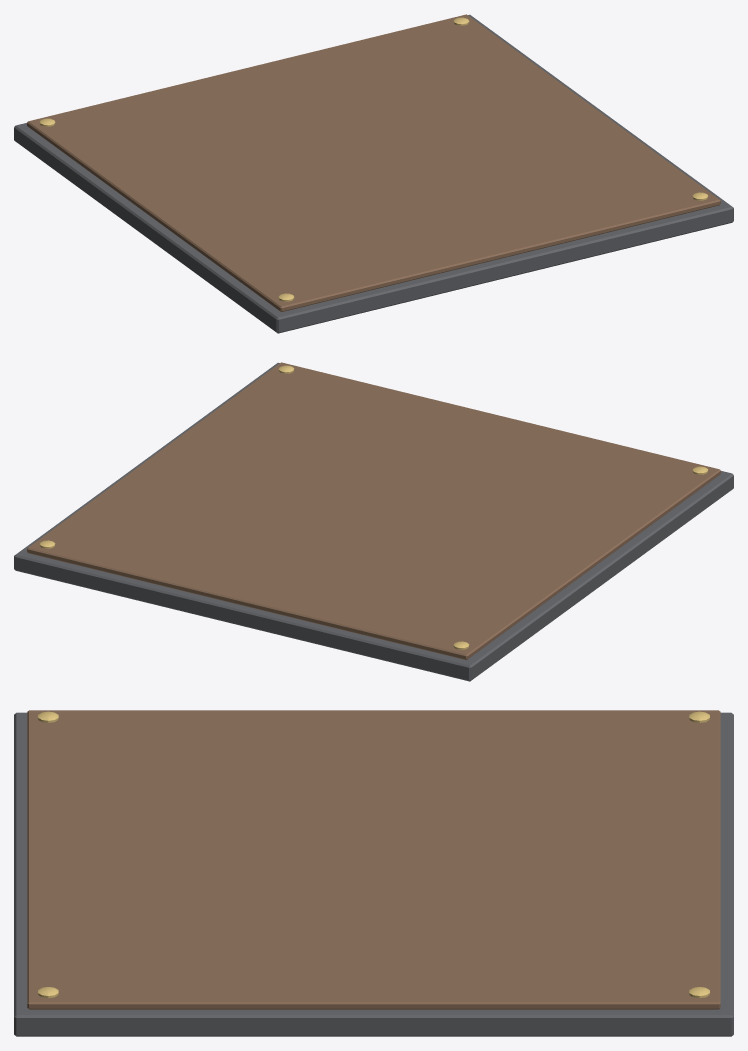
File: escape-room-and-puzzle-venue-puzzle-room-floor-tile-5c4ce834__35774.glb
3 views of the same model, one above another, from view 1: azimuth 30°, elevation 25°; view 2: azimuth 150°, elevation 25°; view 3: azimuth 270°, elevation 25° (orthographic). The views are drawn at different scales.
Parts seen in each view (by area): view 1: puzzle-room-floor-tile; view 2: puzzle-room-floor-tile; view 3: puzzle-room-floor-tile.
Part boxes in pixels (x1,y1,x2,y2): puzzle-room-floor-tile: (14,14,733,333); puzzle-room-floor-tile: (14,362,733,681); puzzle-room-floor-tile: (14,710,733,1036).
Size of the model in its own units: 1.19 by 0.0609 by 1.19.
